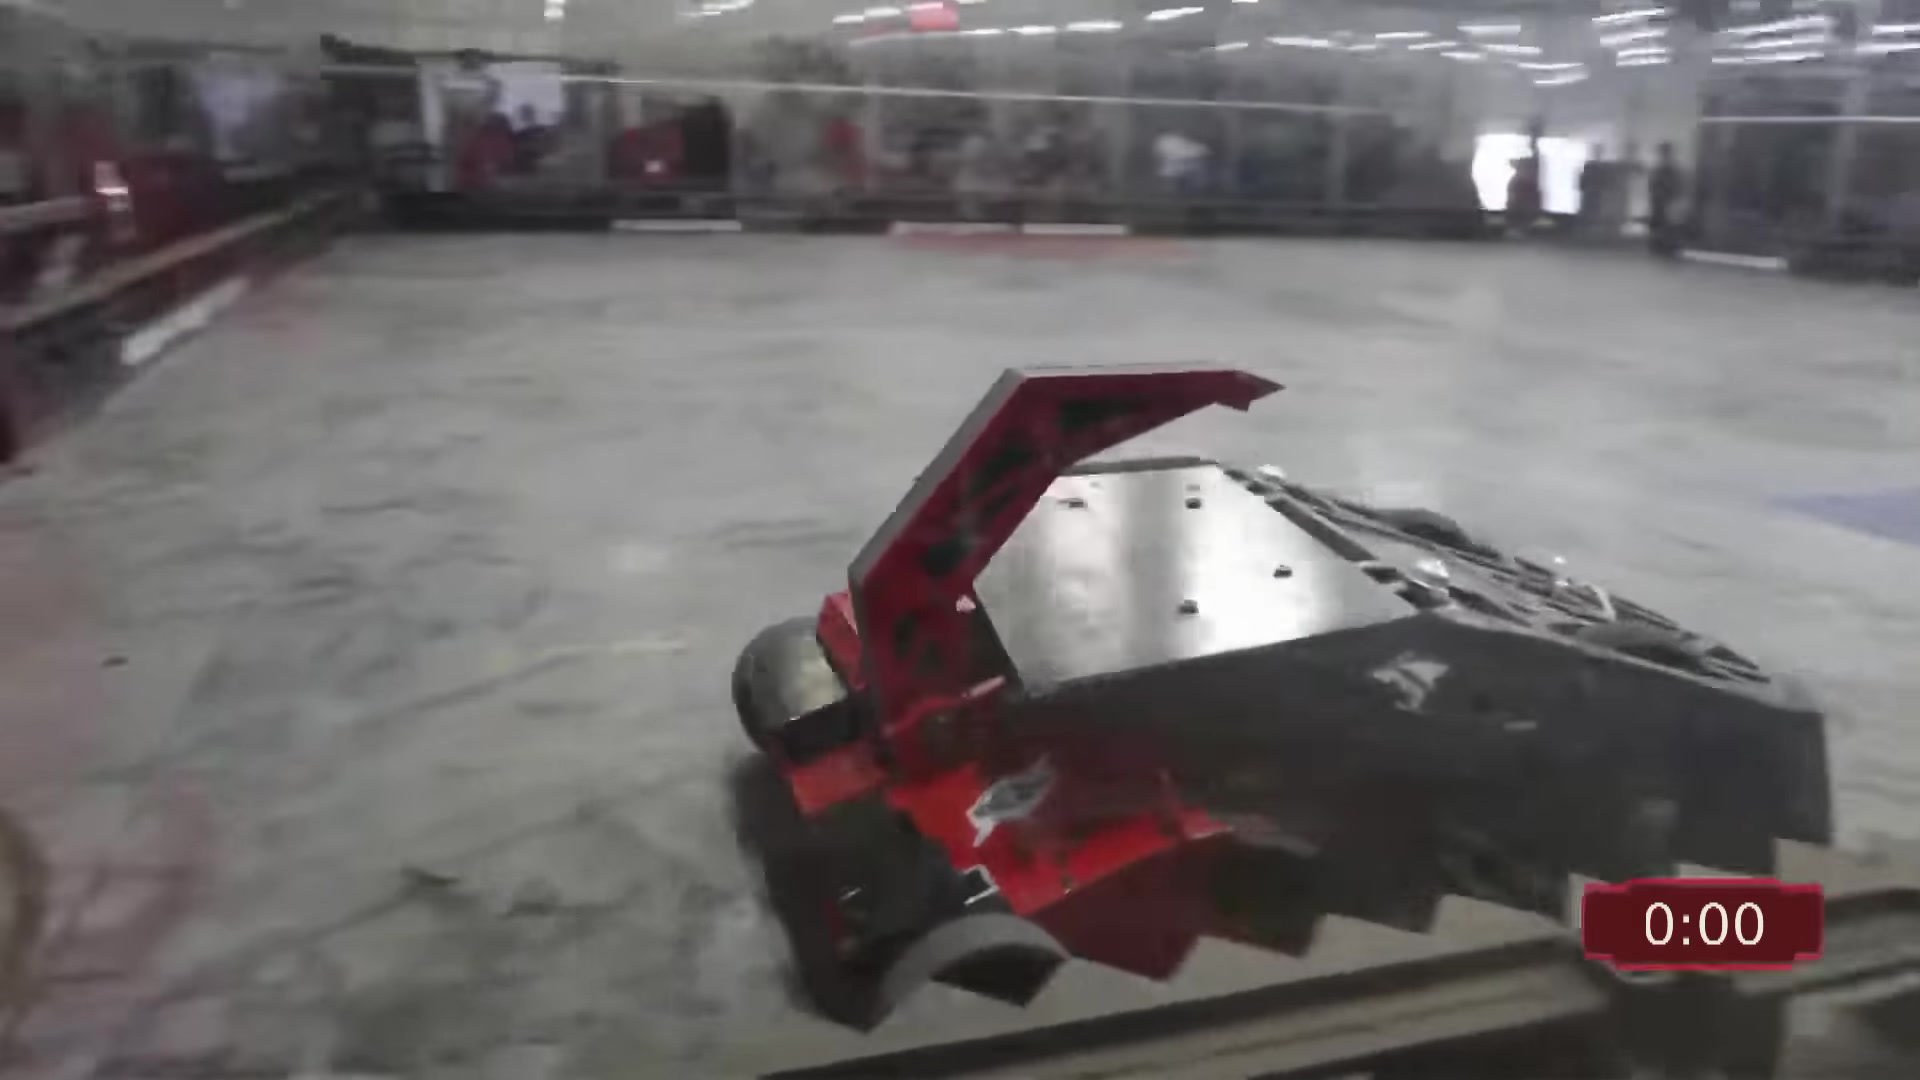combatbot: (731, 361, 1283, 1030), (967, 451, 1841, 839)
